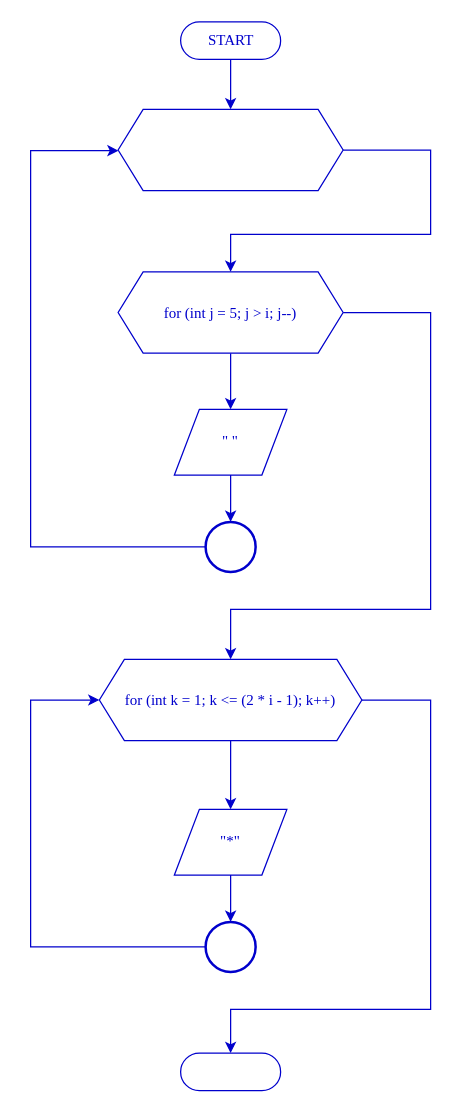
This 463x1113 diagram has some shape labels left out. Here are the shapes that lost their labels. From the top down, the centre of each, then its label:
point (230, 149): for (int i = 1; i <= 5; i++)
point (230, 1071): END
